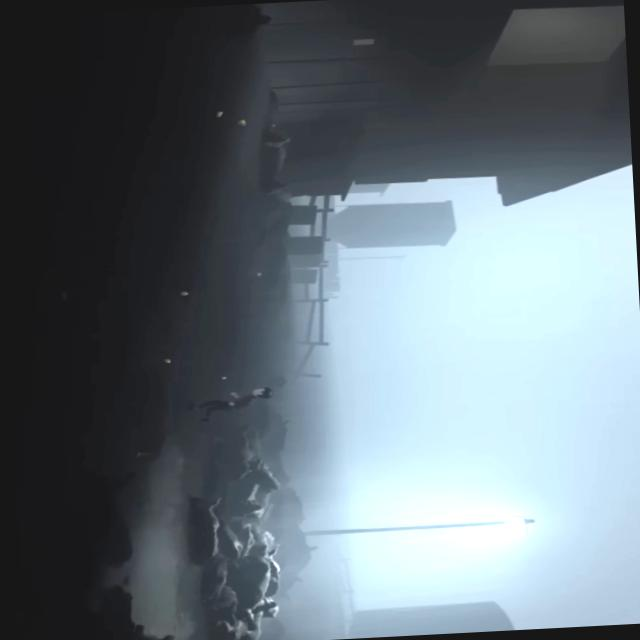boy: (194, 388, 276, 418)
